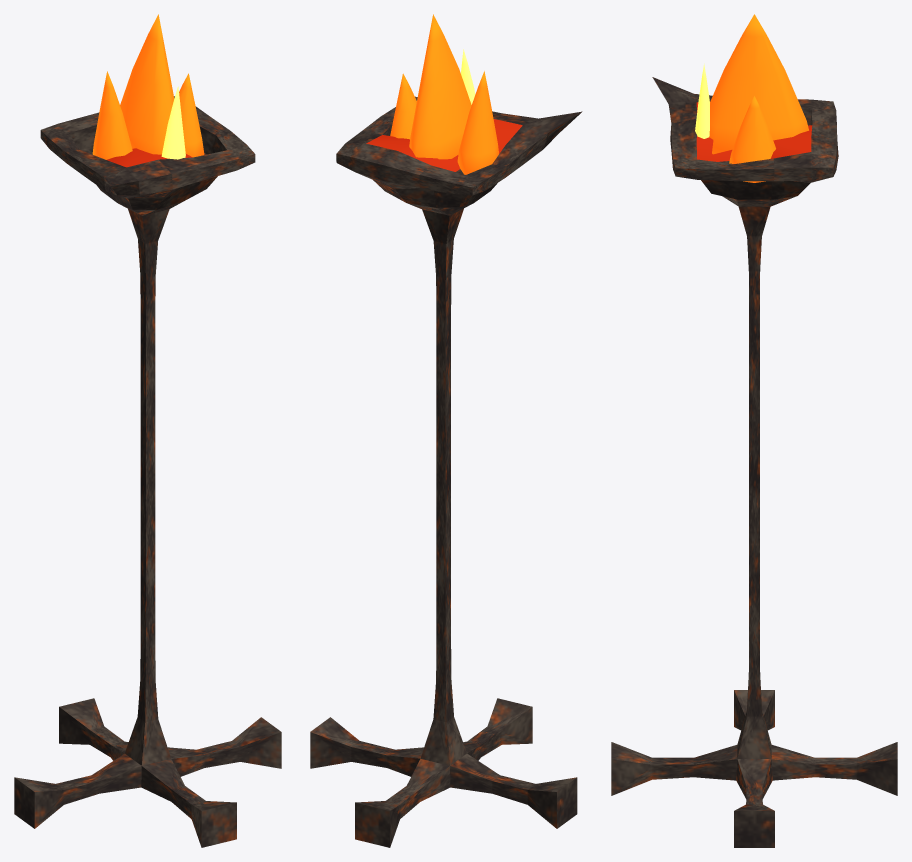
Rendered from floor_torch.glb.
3 views of the same model, side by side, from view 1: azimuth 30°, elevation 25°; view 2: azimuth 150°, elevation 25°; view 3: azimuth 270°, elevation 25° (orthographic).
Parts seen in each view (by area): view 1: crypt_floor_torch; view 2: crypt_floor_torch; view 3: crypt_floor_torch.
Part boxes in pixels (x1,y1,x2,y2): crypt_floor_torch: (14, 14, 281, 847); crypt_floor_torch: (310, 14, 582, 847); crypt_floor_torch: (611, 14, 897, 847).
Bounding box in the file's own units: 0.4375 × 1.31 × 0.4375.
4 materials, 1 textured.
